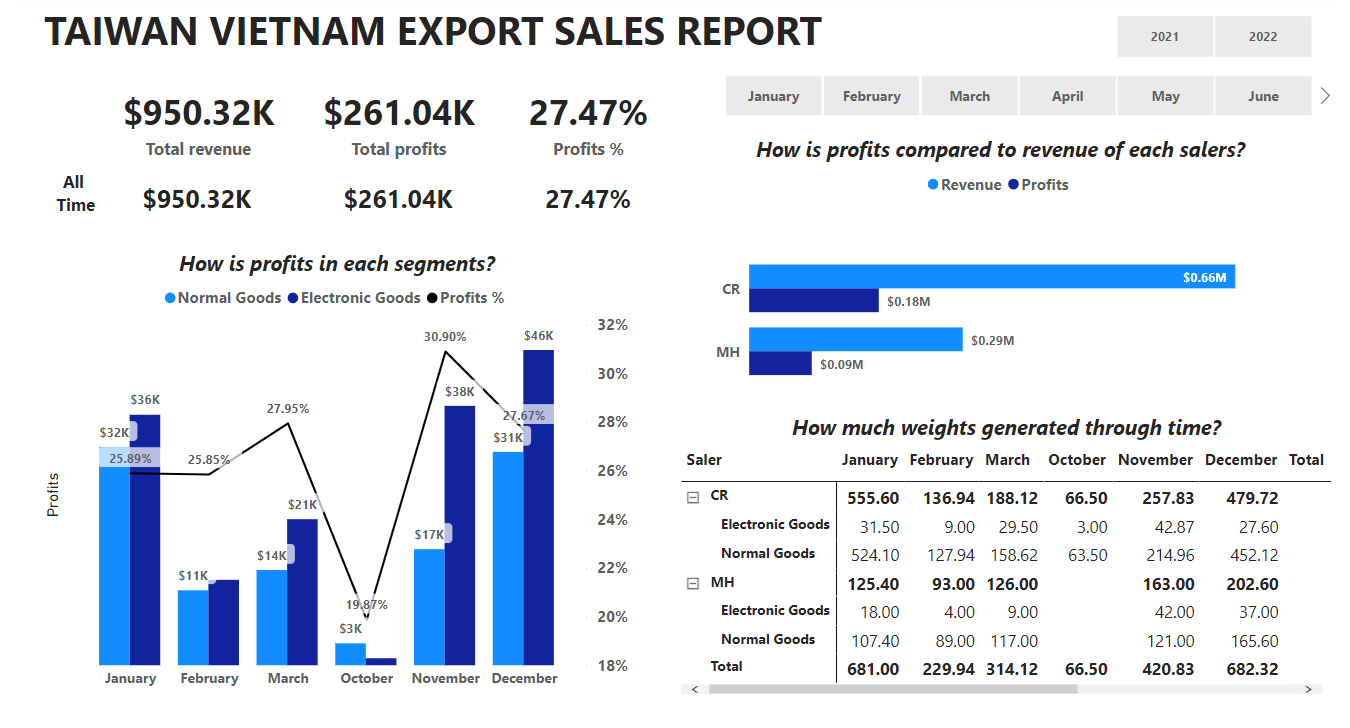

Layout of this report page (visuals, bound fields, positions):
{"tool":"powerbi","page":{"name":"Sales Report","canvas":[1280,720],"ordinal":0},"visuals":[{"type":"card","fields":{"Values":["keyinsight.Total profits"]},"box":[277.4,71.4,195,104.4],"z":0},{"type":"card","fields":{"Values":["keyinsight.Total revenue"]},"box":[85.2,71.4,192.3,104.4],"z":1000},{"type":"card","fields":{"Values":["keyinsight.Title"]},"box":[2.7,0,811.7,67.3],"z":2000},{"type":"card","fields":{"Values":["keyinsight.Profits %"]},"box":[472.4,71.4,170.3,104.4],"z":3000},{"type":"card","fields":{"Values":["keyinsight.Total revenue"]},"box":[111.2,171.7,138.7,52.2],"z":4000},{"type":"card","fields":{"Values":["keyinsight.Total profits"]},"box":[310.4,171.7,129.1,52.2],"z":5000},{"type":"card","fields":{"Values":["keyinsight.Profits %"]},"box":[502.7,171.7,109.9,52.2],"z":6000},{"type":"textbox","box":[28.8,163.4,68.7,60.4],"z":7000},{"type":"slicer","fields":{"Values":["twexport.Date.Variation.Date Hierarchy.Year"]},"box":[1042.4,13.7,237.6,53.6],"z":8000},{"type":"slicer","fields":{"Values":["twexport.Date.Variation.Date Hierarchy.Month"]},"box":[664.7,71.4,615.3,52.2],"z":9000},{"type":"lineClusteredColumnComboChart","title":"How is profits in each segments?","fields":{"Category":["twexport.Date.Variation.Date Hierarchy.Month"],"Series":["twexport.Segments"],"Y2":["keyinsight.Profits %"],"Y":["Sum(twexport.Profits)"]},"box":[28.8,244.5,572.7,434],"z":10000},{"type":"clusteredBarChart","title":"How is profits compared to revenue of each salers?","fields":{"Category":["twexport.Saler"],"Y":["Sum(twexport.Revenue)","Sum(twexport.Profits)"]},"box":[675.7,134.6,560.3,293.9],"z":11000},{"type":"pivotTable","title":"How much weights generated through time?","fields":{"Rows":["twexport.Saler","twexport.Segments"],"Columns":["twexport.Date.Variation.Date Hierarchy.Month","twexport.Date.Variation.Date Hierarchy.Day"],"Values":["Sum(twexport.Weights (kgs))"]},"box":[642.7,402.4,637.3,276.1],"z":12000}]}

Visuals, with their boxes on the page's 1280x720 design canvas (x1, y1, x2, y2). These are canvas units, not pixel positions in the 1350x728 screenshot, which may show the page scaled, cropped or inside an application window:
card - keyinsight.Total profits: <box>277,71,472,176</box>
card - keyinsight.Total revenue: <box>85,71,278,176</box>
card - keyinsight.Title: <box>3,0,814,67</box>
card - keyinsight.Profits %: <box>472,71,643,176</box>
card - keyinsight.Total revenue: <box>111,172,250,224</box>
card - keyinsight.Total profits: <box>310,172,440,224</box>
card - keyinsight.Profits %: <box>503,172,613,224</box>
textbox: <box>29,163,98,224</box>
slicer - twexport.Date.Variation.Date Hierarchy.Year: <box>1042,14,1280,67</box>
slicer - twexport.Date.Variation.Date Hierarchy.Month: <box>665,71,1280,124</box>
"How is profits in each segments?" lineClusteredColumnComboChart: <box>29,244,602,678</box>
"How is profits compared to revenue of each salers?" clusteredBarChart: <box>676,135,1236,428</box>
"How much weights generated through time?" pivotTable: <box>643,402,1280,678</box>
